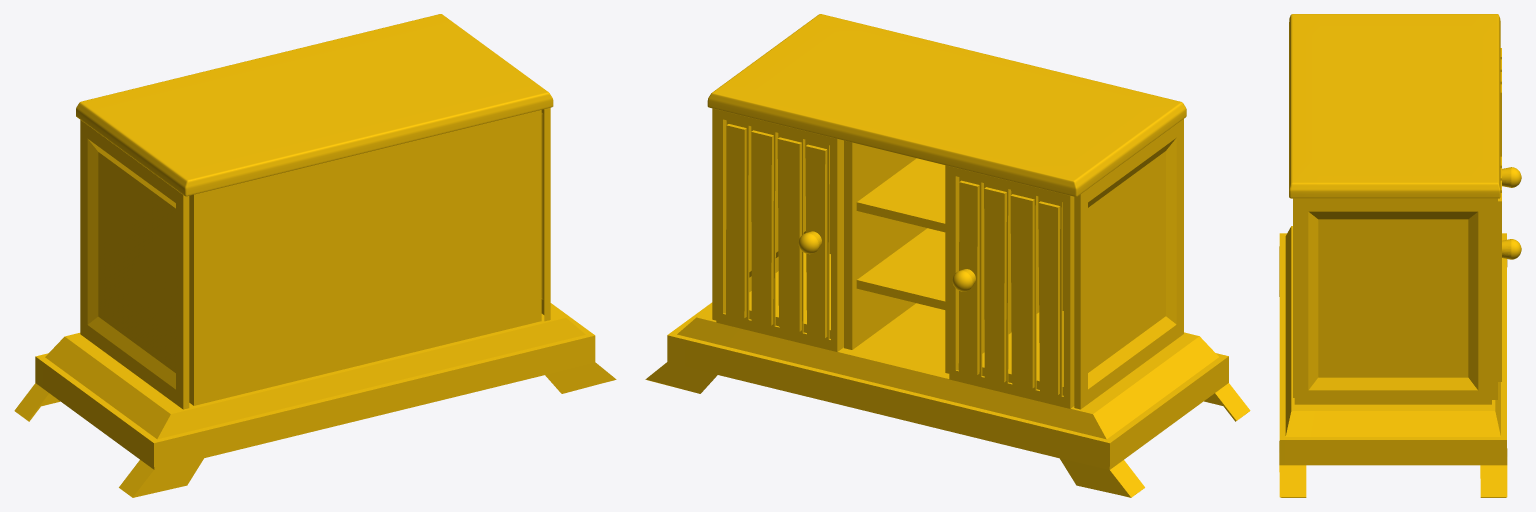
The model's file is Cabinet.fbx.
The picture shows the model from 3 angles, left to right: view 1: azimuth 30°, elevation 25°; view 2: azimuth 150°, elevation 25°; view 3: azimuth 270°, elevation 25°; orthographic projection. The views are drawn at different scales.
Parts seen in each view (by area): view 1: pCube78, pCube79, pCube75, pCube77, pCube76; view 2: pCube79, pCube75, pCube84, pCube85, pCube77, pCube80, pCube82, pCube83, pCube81, pCube76; view 3: pCube76, pCube79, pCube75, pCube84, pCube78, pSphere2, pSphere1.
Boxes of the visible parts, bbox=[...] form: pCube78: bbox=[189, 110, 541, 405]; pCube79: bbox=[76, 14, 553, 196]; pCube75: bbox=[14, 303, 616, 497]; pCube77: bbox=[80, 120, 189, 409]; pCube76: bbox=[541, 107, 550, 321]; pCube79: bbox=[707, 14, 1186, 196]; pCube75: bbox=[645, 253, 1250, 497]; pCube84: bbox=[716, 109, 843, 351]; pCube85: bbox=[949, 166, 1074, 408]; pCube77: bbox=[1074, 119, 1183, 409]; pCube80: bbox=[844, 140, 927, 349]; pCube82: bbox=[856, 228, 945, 309]; pCube83: bbox=[856, 158, 945, 232]; pCube81: bbox=[945, 165, 1039, 373]; pCube76: bbox=[712, 108, 805, 320]; pCube76: bbox=[1294, 198, 1491, 404]; pCube79: bbox=[1289, 14, 1500, 198]; pCube75: bbox=[1279, 226, 1507, 497]; pCube84: bbox=[1492, 156, 1501, 399]; pCube78: bbox=[1293, 198, 1294, 397]; pSphere2: bbox=[1502, 167, 1521, 187]; pSphere1: bbox=[1502, 239, 1521, 259].
Bounding box in the file's own units: 11.97 × 7.05 × 5.4.
